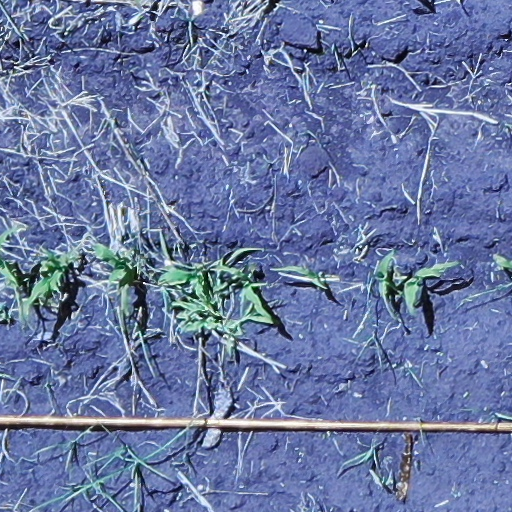planta: (23, 247, 79, 317), (211, 264, 276, 324), (93, 243, 136, 320), (403, 259, 461, 313), (158, 267, 229, 311), (273, 263, 329, 289), (377, 246, 395, 303)
